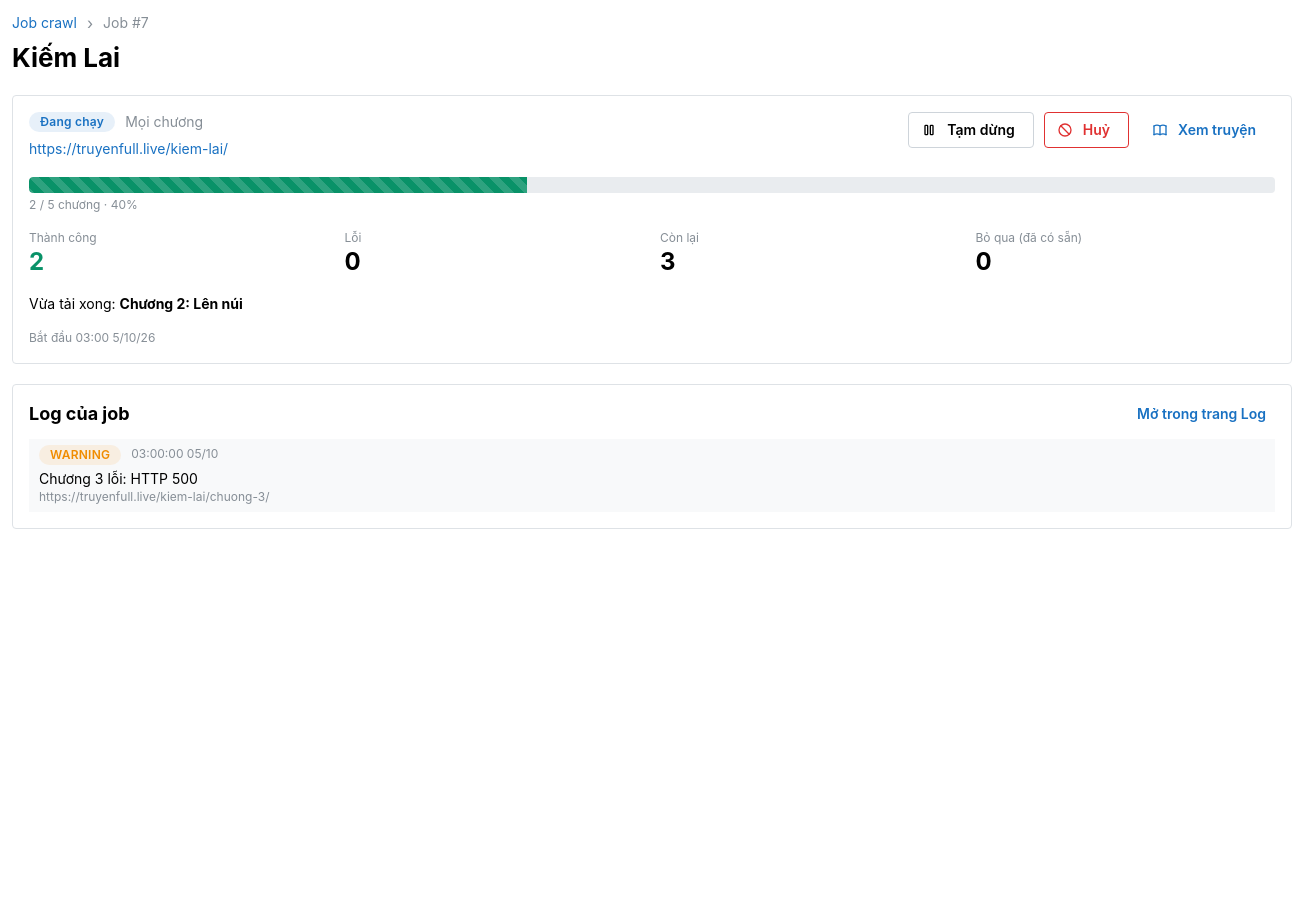
Scenario: JobDetailPage › tạm dừng job đang chạy rồi cho phép tiếp tục hoặc huỷ
This screenshot has width=1292, height=912.
Step 1. Click the button "Tạm dừng" → x=971, y=130, box x1=908 y1=112 x2=1034 y2=148
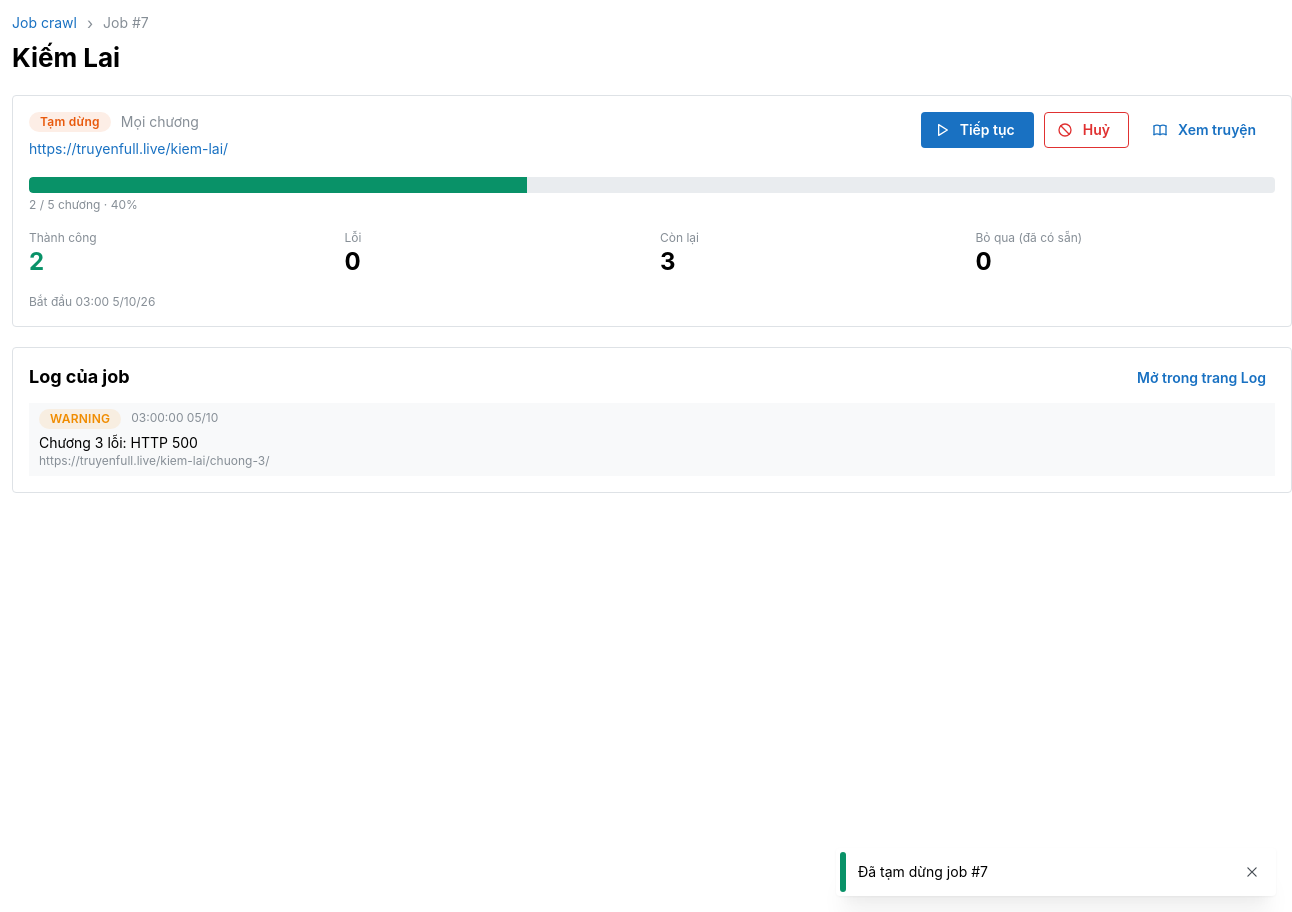
Expected: the button "Tiếp tục" is shown, x1=921 y1=112 x2=1034 y2=148
Expected: the text "Tạm dừng" is shown, x1=40 y1=113 x2=100 y2=131
Expected: the text "Đã tạm dừng job #7" is shown, x1=858 y1=863 x2=988 y2=880
